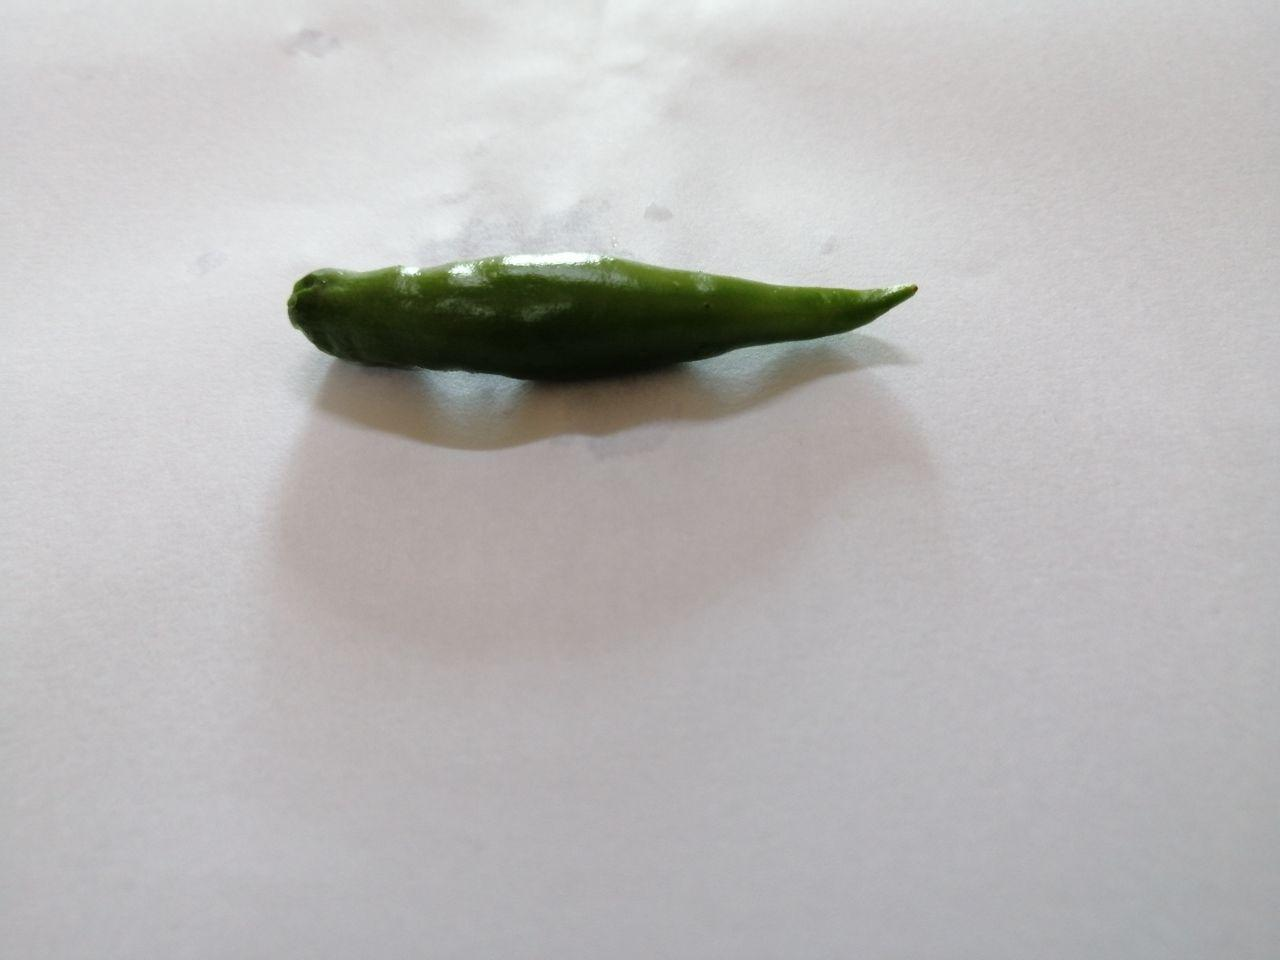lada hijau: (249, 225, 943, 417)
